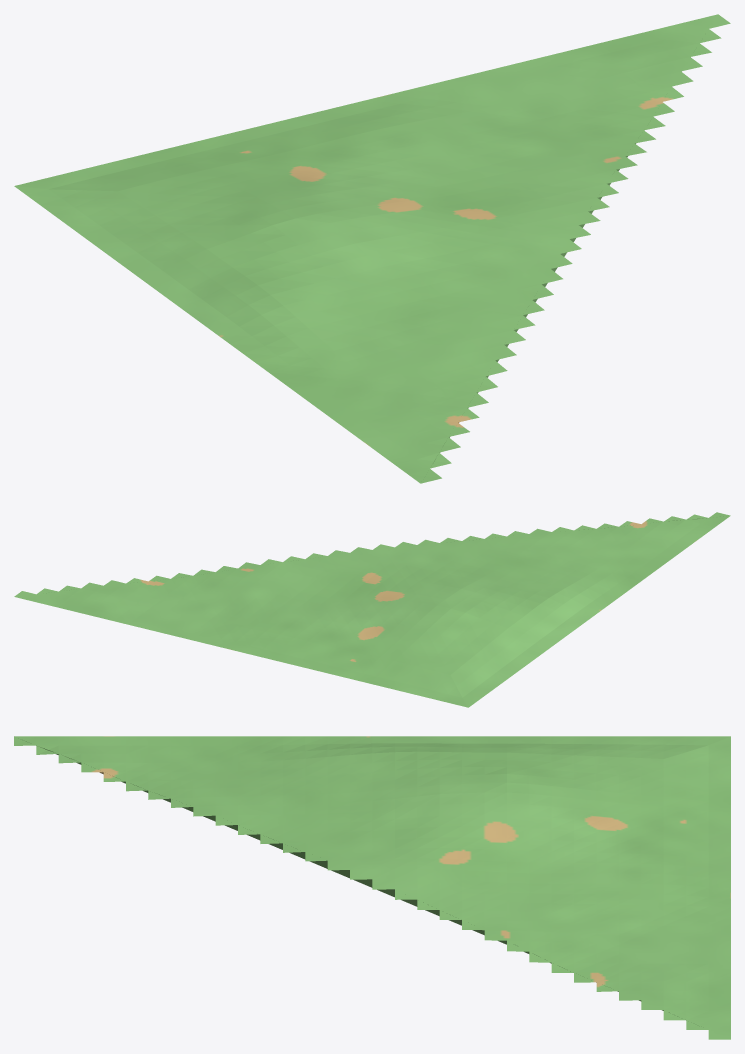
The model's file is Grass_Flat_10_SW.obj.
3 renders of one model, top to bottom at view 1: azimuth 30°, elevation 25°; view 2: azimuth 150°, elevation 25°; view 3: azimuth 270°, elevation 25°, orthographic. The views are drawn at different scales.
Bounding box in the file's own units: 10 × 0.3104 × 10.
1 material, 1 textured.
